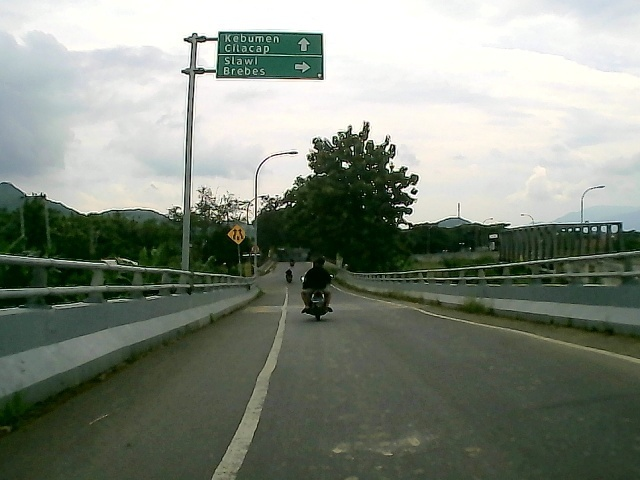Akhir bangunan pemisah satu arah: (224, 223, 249, 246)
